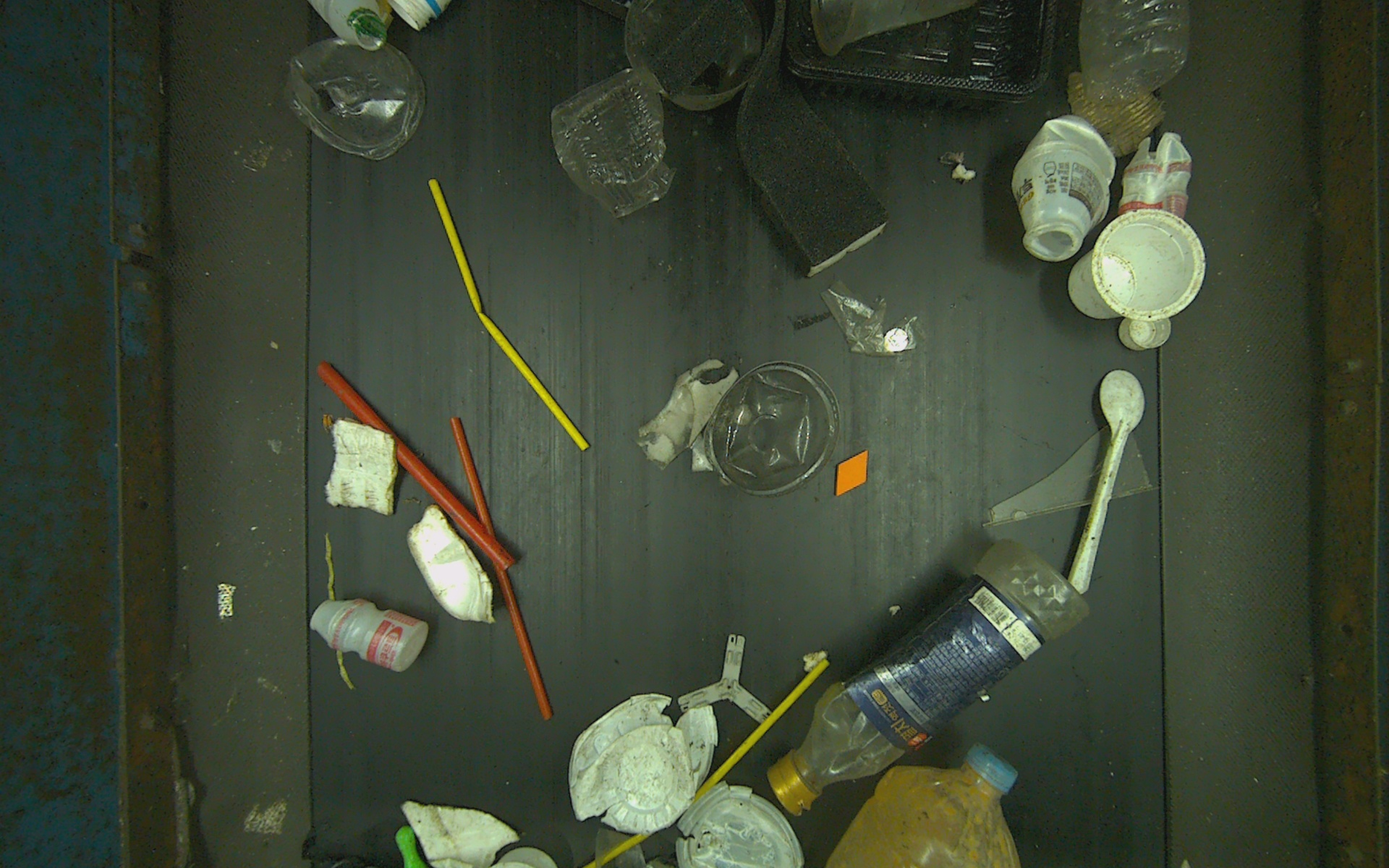PET: (768, 539, 1089, 815)
PET-C: (552, 69, 675, 216), (705, 362, 838, 495), (283, 37, 425, 159)
PS-W: (569, 694, 718, 832), (1011, 115, 1116, 261), (1068, 210, 1205, 320), (310, 599, 428, 672), (1119, 132, 1192, 219)
